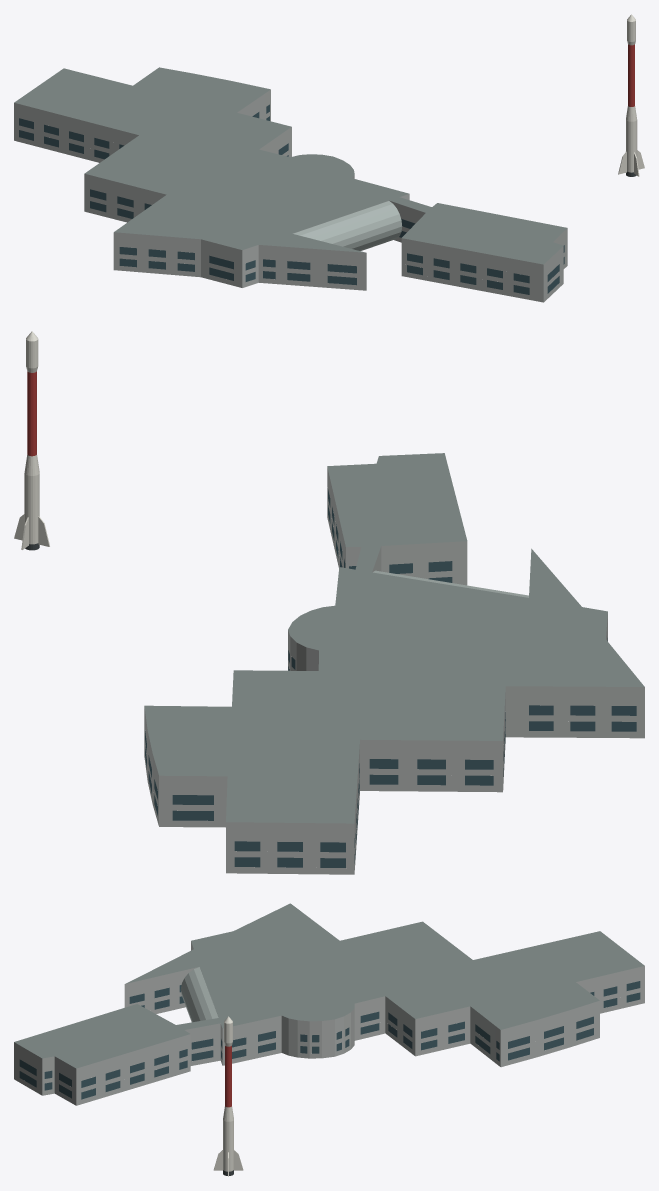
The model's file is cosmodome-laval-near.glb.
3 views of the same model, one above another, from view 1: azimuth 30°, elevation 25°; view 2: azimuth 150°, elevation 25°; view 3: azimuth 270°, elevation 25° (orthographic). The views are drawn at different scales.
Visible parts, largest first — view 1: cosmodome-laval-0-roof, cosmodome-laval-0-cladding, cosmodome-laval-0-glass, cosmodome-laval-0-entry, cosmodome-laval-0-white, cosmodome-laval-0-red; view 2: cosmodome-laval-0-roof, cosmodome-laval-0-cladding, cosmodome-laval-0-glass, cosmodome-laval-0-white, cosmodome-laval-0-red; view 3: cosmodome-laval-0-roof, cosmodome-laval-0-cladding, cosmodome-laval-0-glass, cosmodome-laval-0-entry, cosmodome-laval-0-white, cosmodome-laval-0-red.
Part boxes in pixels (left/top/right/bottom): cosmodome-laval-0-roof: left=14, top=67, right=566, bottom=264; cosmodome-laval-0-cladding: left=14, top=89, right=567, bottom=302; cosmodome-laval-0-glass: left=19, top=104, right=564, bottom=294; cosmodome-laval-0-entry: left=293, top=201, right=402, bottom=250; cosmodome-laval-0-white: left=618, top=14, right=644, bottom=176; cosmodome-laval-0-red: left=628, top=44, right=634, bottom=106; cosmodome-laval-0-roof: left=144, top=453, right=644, bottom=823; cosmodome-laval-0-cladding: left=144, top=467, right=644, bottom=874; cosmodome-laval-0-glass: left=145, top=489, right=636, bottom=867; cosmodome-laval-0-white: left=14, top=331, right=49, bottom=549; cosmodome-laval-0-red: left=27, top=371, right=36, bottom=456; cosmodome-laval-0-roof: left=14, top=903, right=644, bottom=1068; cosmodome-laval-0-cladding: left=14, top=941, right=644, bottom=1105; cosmodome-laval-0-glass: left=19, top=981, right=640, bottom=1099; cosmodome-laval-0-entry: left=180, top=967, right=218, bottom=1022; cosmodome-laval-0-white: left=213, top=1016, right=243, bottom=1176; cosmodome-laval-0-red: left=225, top=1046, right=231, bottom=1107.
Bounding box in the file's own units: 151 × 46.4 × 169.
